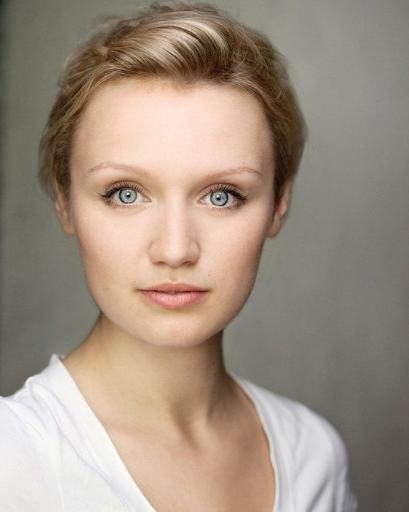left_eye: (197, 187, 251, 212)
left_lip_corner: (204, 286, 217, 301)
right_eye: (103, 183, 154, 211)
right_lip_corner: (133, 284, 149, 303)
